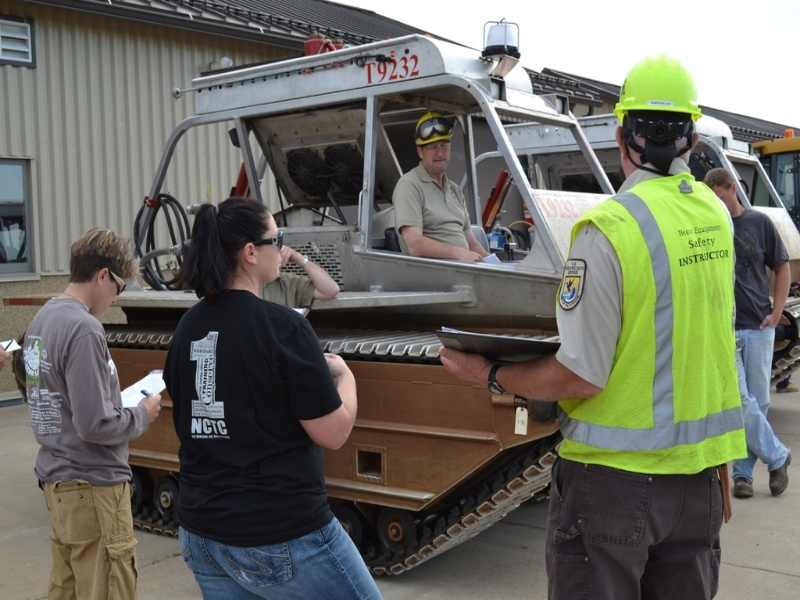Baret: (614, 56, 704, 129)
